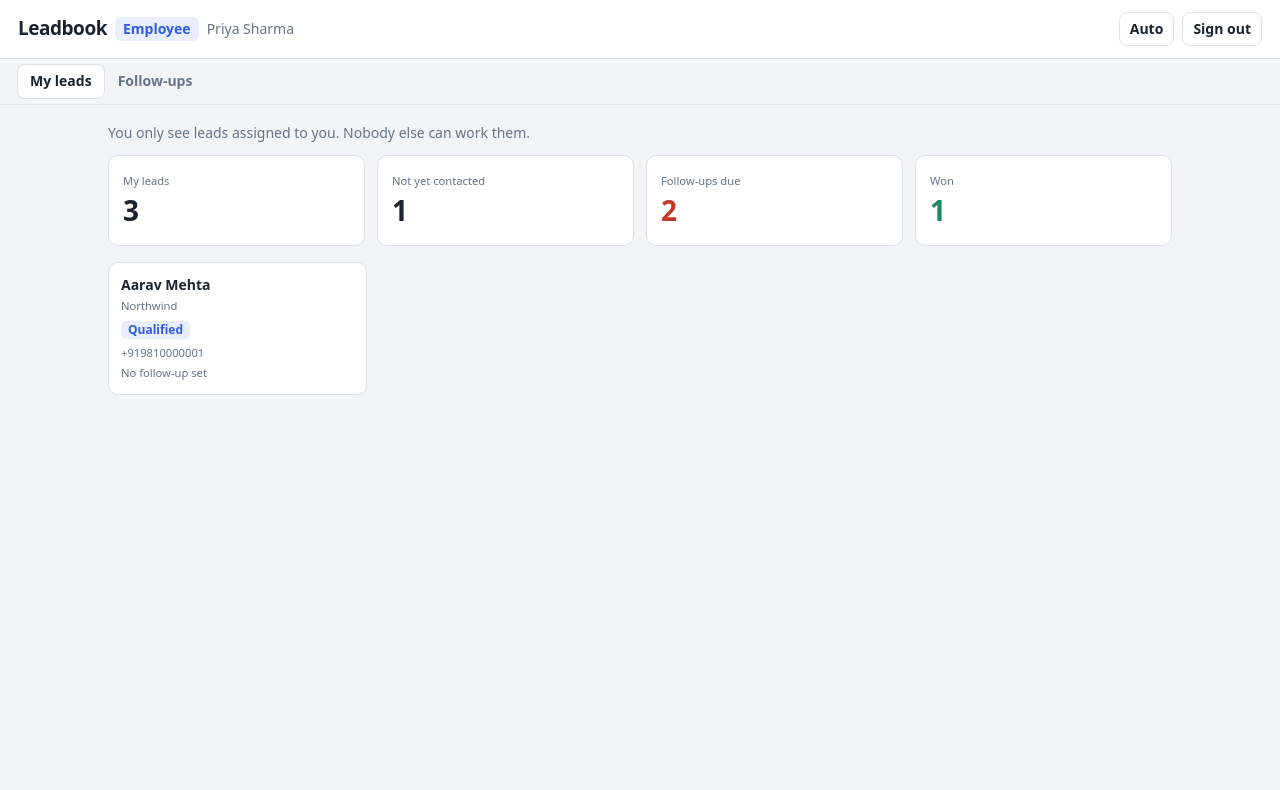
Test case: Lead drawer for employees (8.2) › shows the API's message when an action fails, and keeps what the person typed
The image size is (1280, 790).
Step 1. Click the button with aria-label "Open Aarav Mehta" → (237, 328), box left=108, top=262, right=366, bottom=395
(page scrolled)
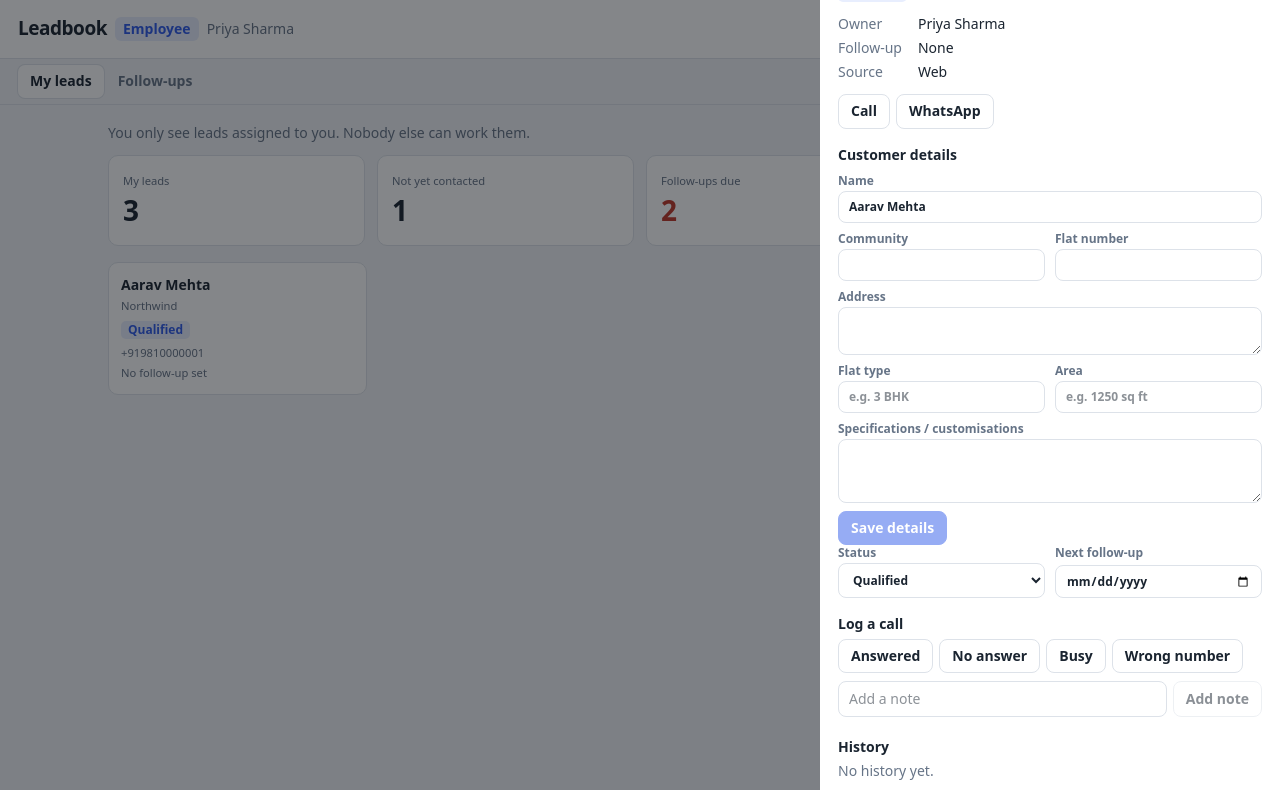
Step 2. Type "keep me" into the field labelled "note" → (1002, 699), box left=838, top=681, right=1167, bottom=717
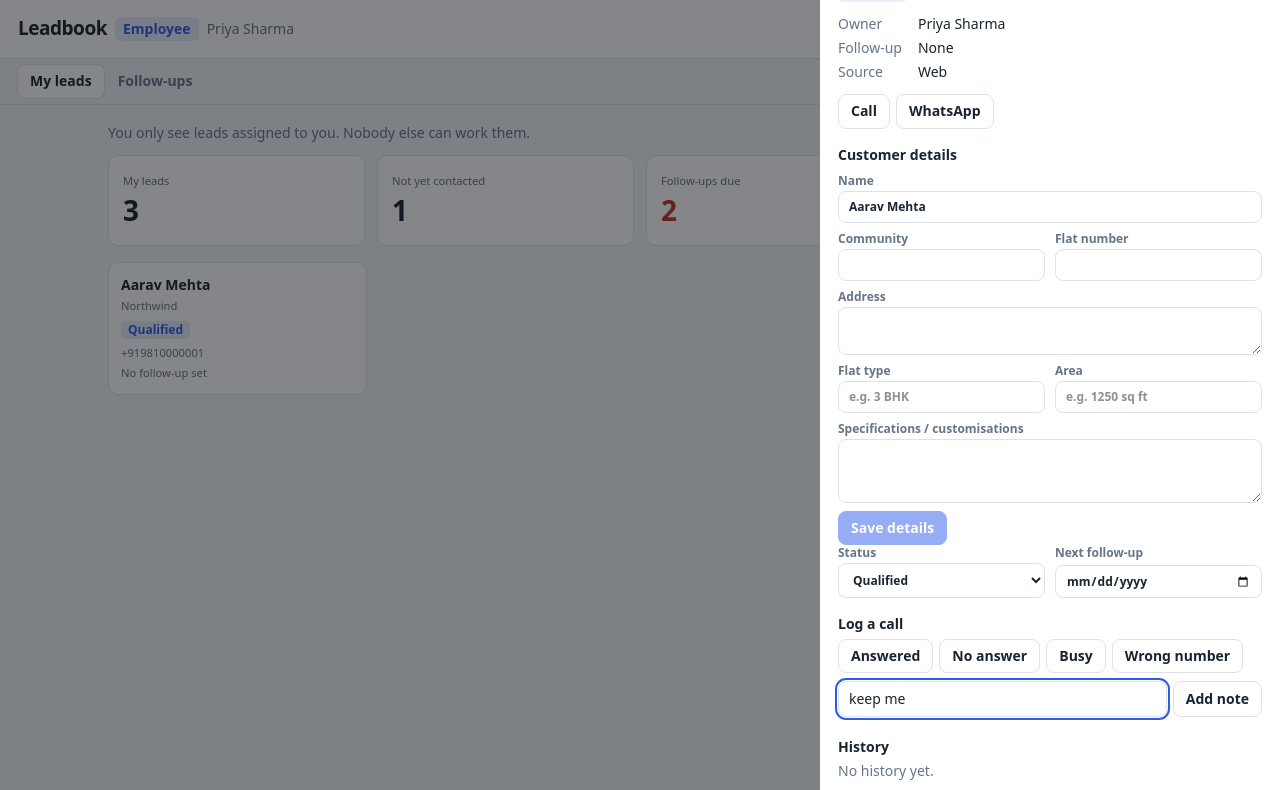
Step 3. Click the button "Add note" → (1217, 699), box left=1173, top=681, right=1262, bottom=717
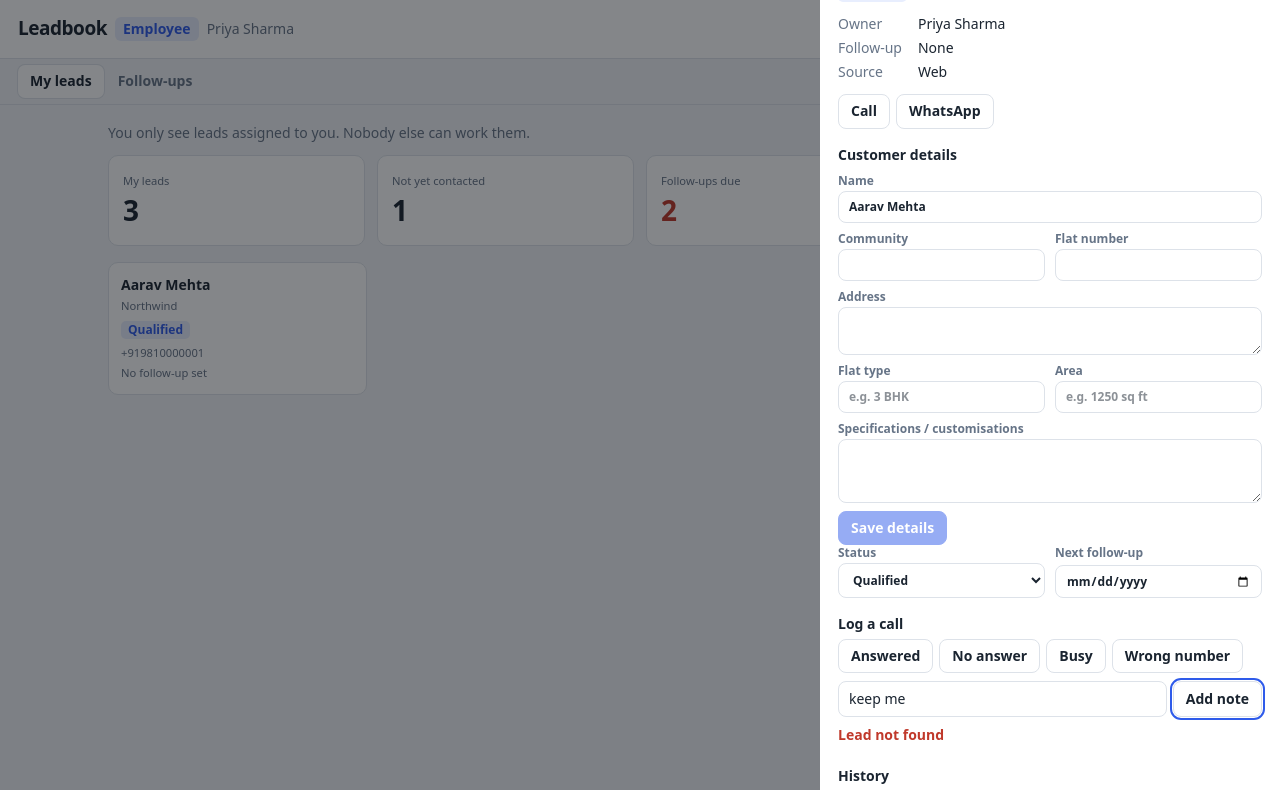
Expected: the message reads "Lead not found", left=838, top=725, right=944, bottom=744
